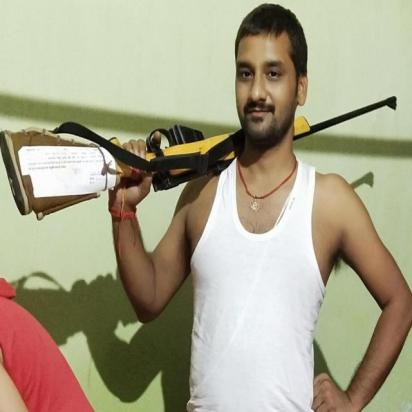Gun: (0, 92, 400, 224)
